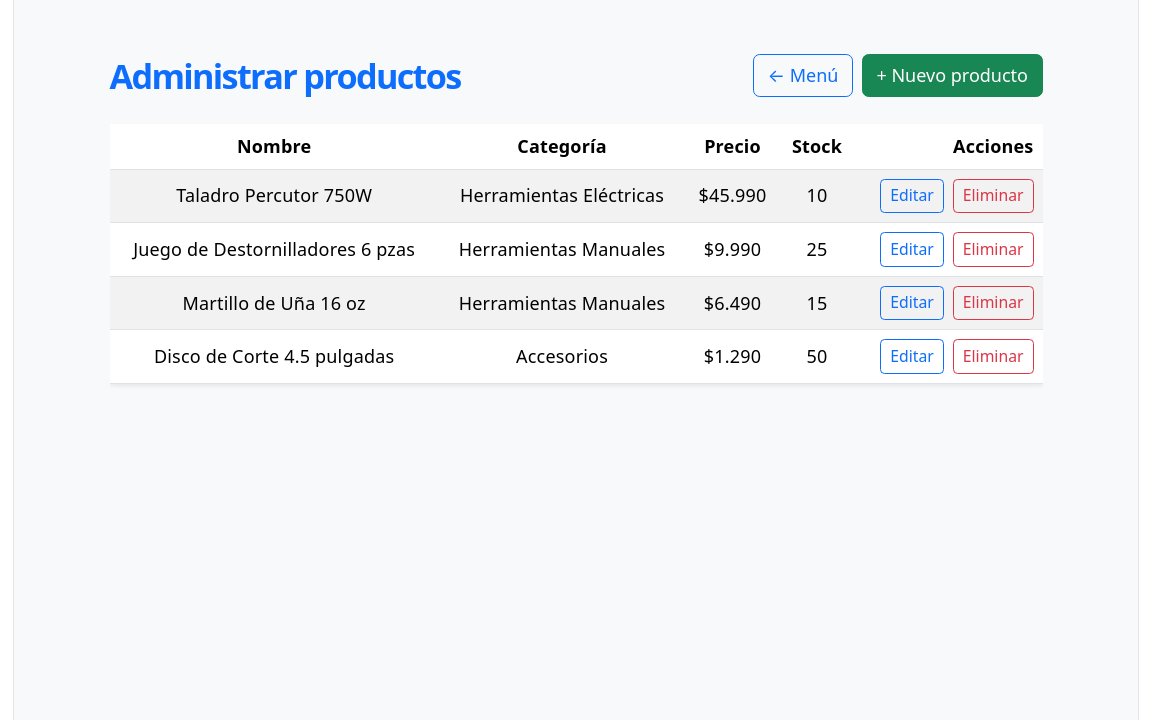
AdminProductos (página) › crea un producto nuevo y lo muestra en la tabla
Click the button "+ Nuevo producto": [952, 75] box 862,54 -> 1042,96
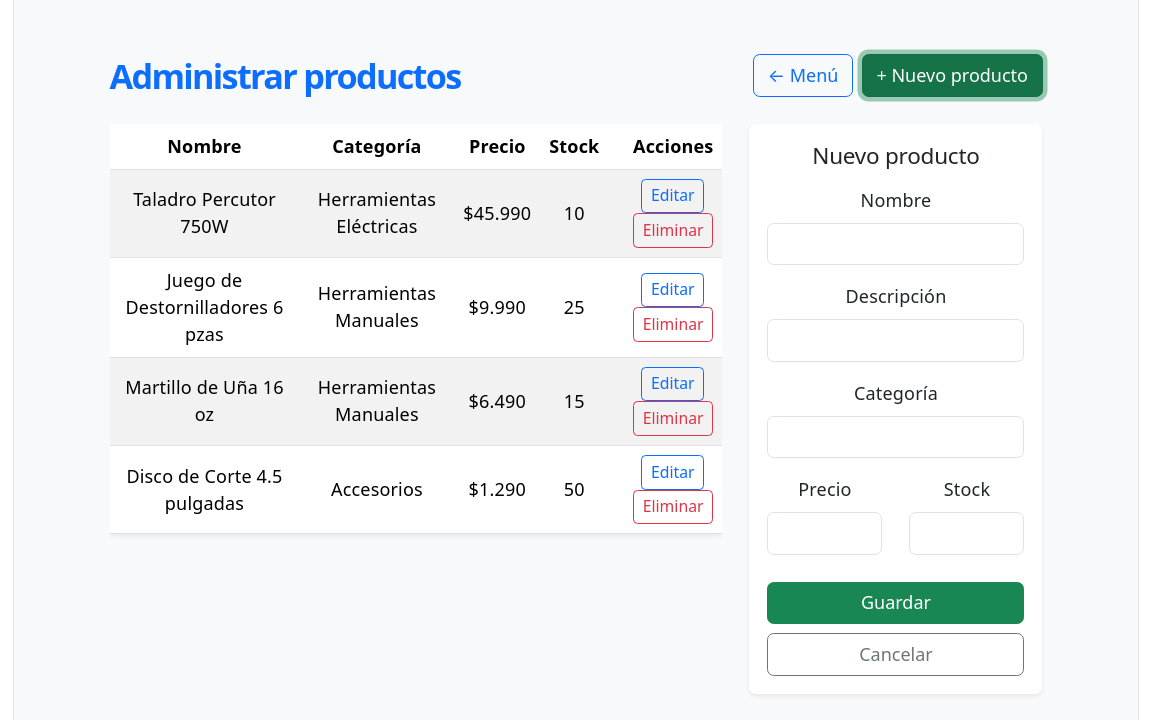
In the field labelled "Nombre": [896, 244] box 768,222 -> 1024,265, type "Producto de prueba XYZ"
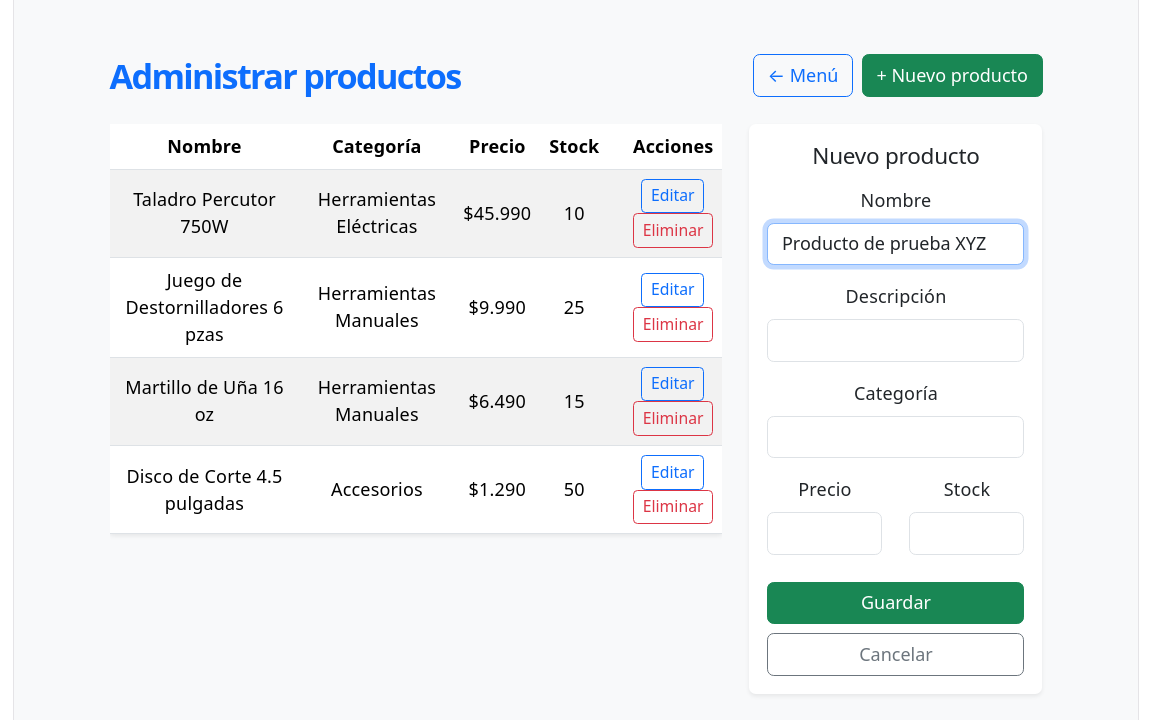
In the field labelled "Categoría": [896, 437] box 768,416 -> 1024,458, type "Pruebas"
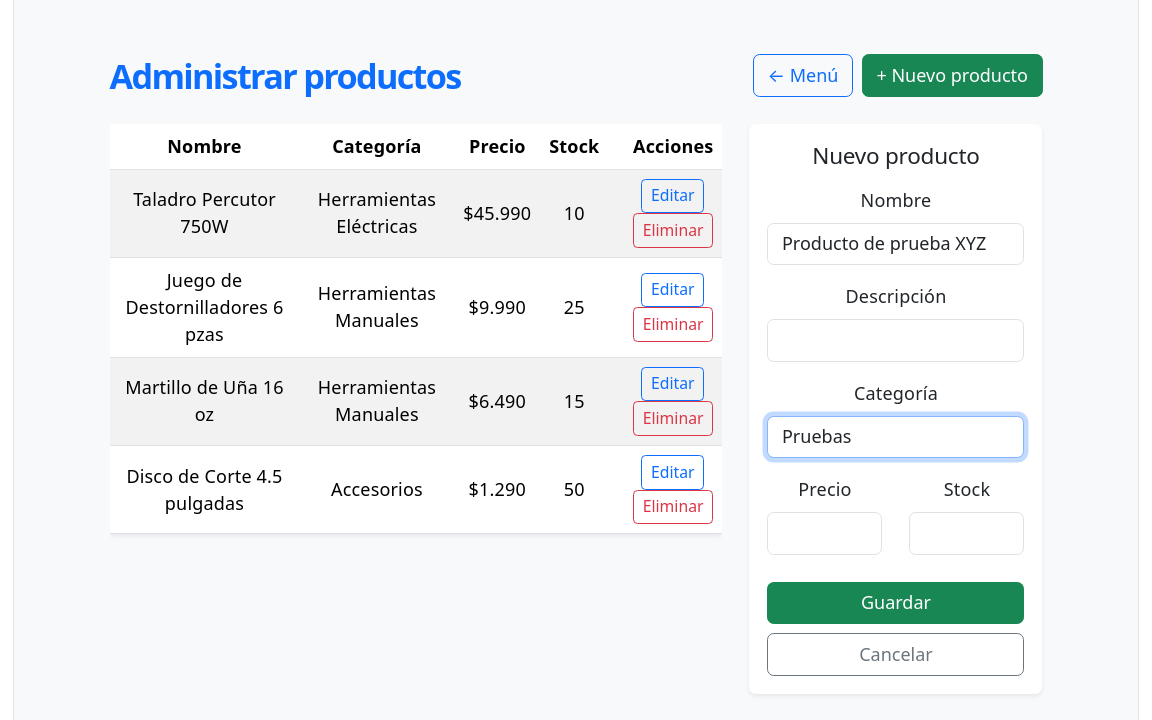
In the number field labelled "Precio": [825, 533] box 768,512 -> 882,554, type "1000"
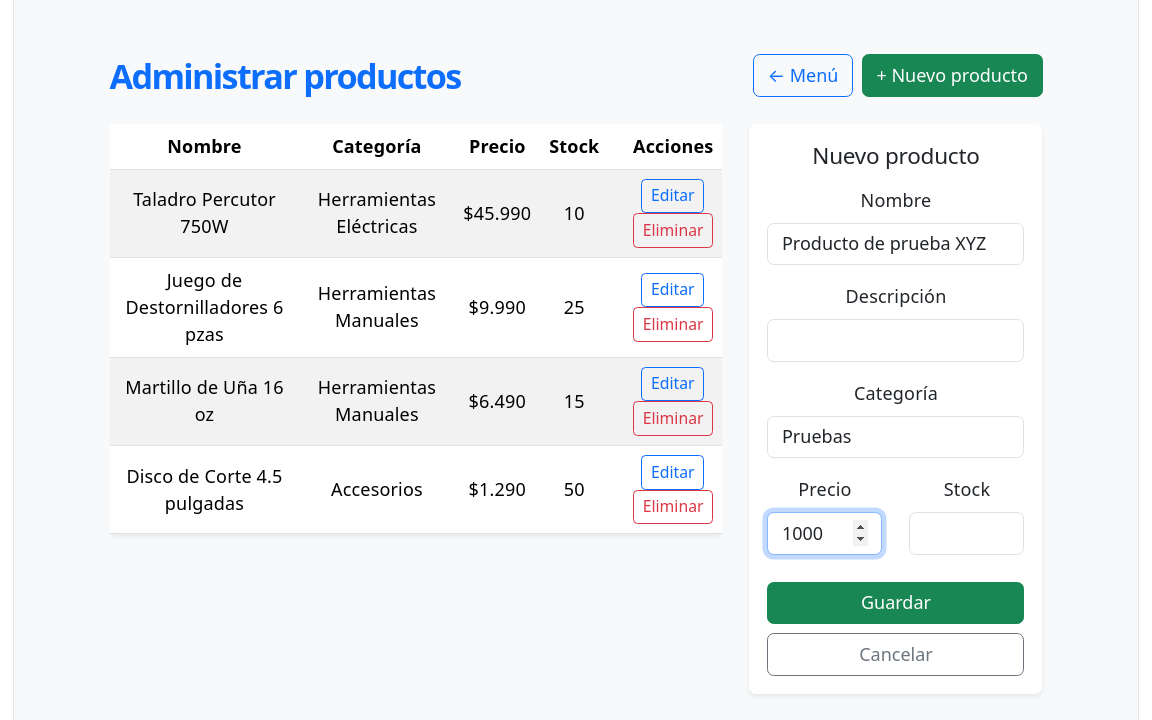
In the number field labelled "Stock": [967, 533] box 910,512 -> 1024,554, type "5"
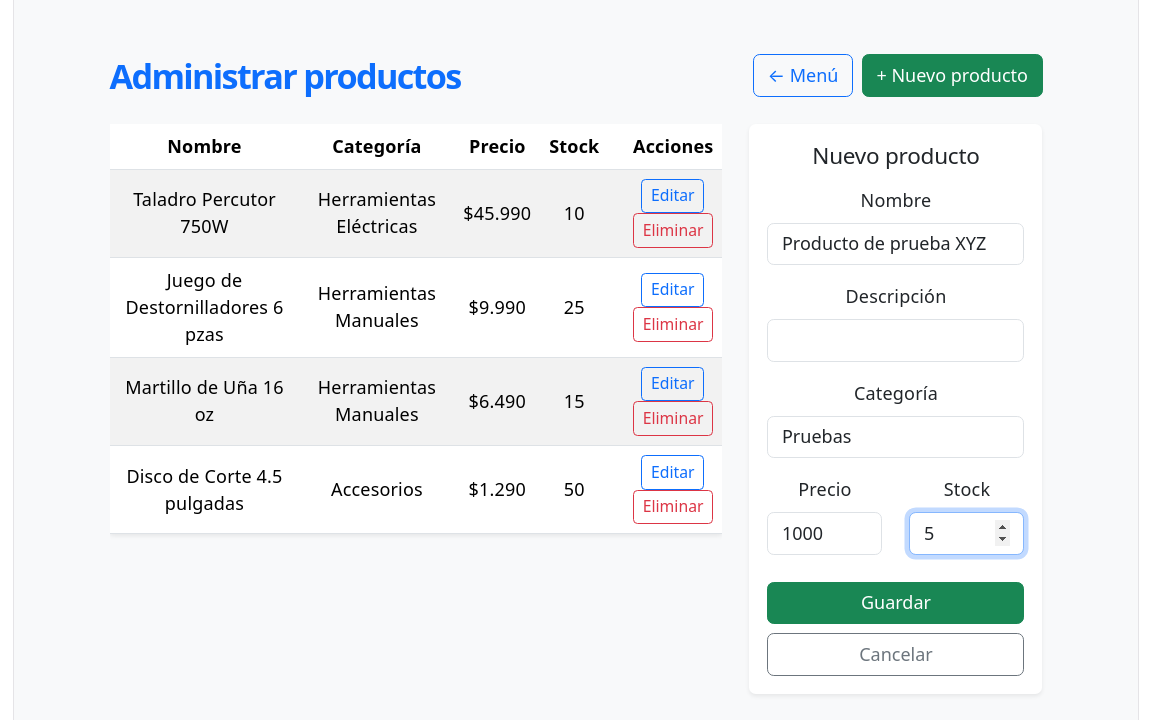
Click the button "Guardar": [896, 603] box 768,582 -> 1024,624
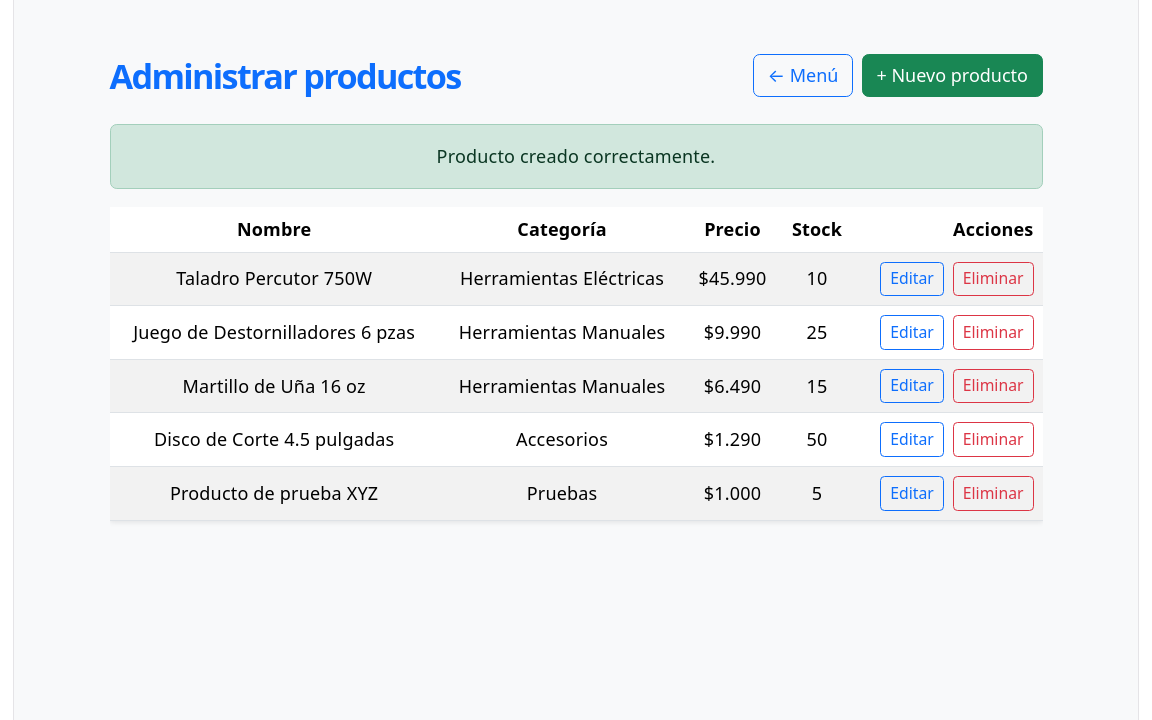
Now the text "Producto creado correctamente." is shown, box 110,124 -> 1042,188
Now the text "Producto de prueba XYZ" is shown, box 110,466 -> 439,520
